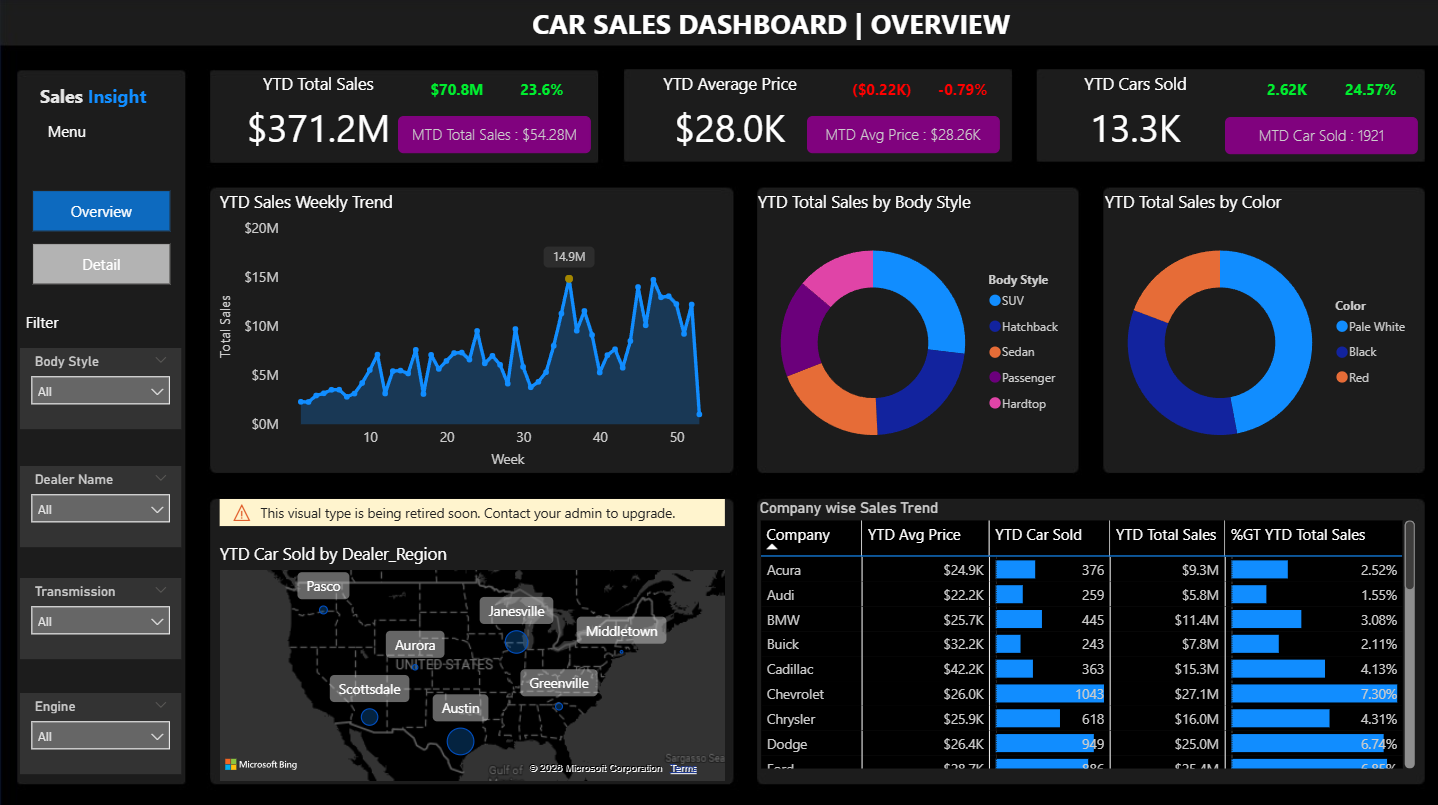

The dashboard page shown, as its layout file describes it:
{"tool":"powerbi","page":{"name":"Overview","canvas":[1280,720],"ordinal":0},"visuals":[{"type":"advanceCardE03760C5AB684758B56AA29F9E6C257B","title":"YTD Total Sales","fields":{"mainMeasure":["car_data.YTD Total Sales"]},"box":[189.7,65.2,186.7,77.8],"z":0},{"type":"advanceCardE03760C5AB684758B56AA29F9E6C257B","fields":{"mainMeasure":["car_data.Sale Diff"]},"box":[361.8,65.2,88.5,26.3],"z":1000},{"type":"advanceCardE03760C5AB684758B56AA29F9E6C257B","fields":{"mainMeasure":["car_data.YoY Sales Growth"]},"box":[436.7,65.2,88.5,26.3],"z":2000},{"type":"advanceCardE03760C5AB684758B56AA29F9E6C257B","title":"MTD Total Sales","fields":{"mainMeasure":["car_data.MTD KPI"]},"box":[354,104.1,171.2,33.1],"z":3000},{"type":"advanceCardE03760C5AB684758B56AA29F9E6C257B","title":"YTD Average Price","fields":{"mainMeasure":["car_data.YTD Avg Price"]},"box":[557.3,65.2,180.9,77.8],"z":4000},{"type":"advanceCardE03760C5AB684758B56AA29F9E6C257B","fields":{"mainMeasure":["car_data.Price Diff"]},"box":[738.2,65.2,88.5,26.3],"z":5000},{"type":"advanceCardE03760C5AB684758B56AA29F9E6C257B","fields":{"mainMeasure":["car_data.YoY Price Growth"]},"box":[810.2,65.2,88.5,26.3],"z":6000},{"type":"advanceCardE03760C5AB684758B56AA29F9E6C257B","title":"MTD Total Sales","fields":{"mainMeasure":["car_data.MTD Price"]},"box":[716.8,104.1,171.2,33.1],"z":7000},{"type":"advanceCardE03760C5AB684758B56AA29F9E6C257B","title":"YTD Cars Sold","fields":{"mainMeasure":["car_data.YTD Car Sold"]},"box":[917.9,64.9,180.1,77.7],"z":8000},{"type":"advanceCardE03760C5AB684758B56AA29F9E6C257B","title":"MTD Total Sales","fields":{"mainMeasure":["car_data.Car Sold KPI"]},"box":[1087.1,104.2,171,32.9],"z":9000},{"type":"advanceCardE03760C5AB684758B56AA29F9E6C257B","fields":{"mainMeasure":["car_data.Car Sold Diff"]},"box":[1098.1,64.9,88.7,26.5],"z":10000},{"type":"advanceCardE03760C5AB684758B56AA29F9E6C257B","fields":{"mainMeasure":["car_data.Car Sold Growth"]},"box":[1172.1,64.9,88.7,26.5],"z":11000},{"type":"areaChart","title":"YTD  Sales Weekly Trend","fields":{"Category":["Calendar Table.Week"],"Y":["Sum(car_data.Price ($))","car_data.Max point"]},"box":[191,169.3,459,250.7],"z":12000},{"type":"donutChart","fields":{"Category":["car_data.Body Style"],"Y":["car_data.YTD Total Sales"]},"box":[667.7,169.4,285.5,250.9],"z":13000},{"type":"donutChart","fields":{"Category":["car_data.Color"],"Y":["car_data.YTD Total Sales"]},"box":[975.4,169.4,285.5,250.9],"z":14000},{"type":"map","fields":{"Category":["car_data.Dealer_Region"],"Size":["car_data.YTD Car Sold"]},"box":[190.6,443.3,458.4,255.4],"z":15000},{"type":"tableEx","title":"Company wise Sales Trend","fields":{"Values":["car_data.Company","car_data.YTD Avg Price","car_data.YTD Car Sold","car_data.YTD Total Sales1","car_data.YTD Total Sales"]},"box":[669.5,443.3,591.4,243.8],"z":16000},{"type":"textbox","box":[439.9,0,489.7,42.5],"z":17000},{"type":"slicer","fields":{"Values":["car_data.Body Style"]},"box":[19,309.6,143,71.5],"z":18000},{"type":"slicer","fields":{"Values":["car_data.Dealer_Name"]},"box":[19,413.7,143,71.5],"z":18001},{"type":"slicer","fields":{"Values":["car_data.Transmission"]},"box":[19,513.3,143,71.5],"z":18002},{"type":"slicer","fields":{"Values":["car_data.Engine"]},"box":[19,615.6,143,71.5],"z":18003},{"type":"textbox","box":[19,273.4,43.5,29],"z":18004},{"type":"textbox","box":[29.9,69.7,106.8,42.5],"z":18005},{"type":"textbox","box":[38,104.1,45.3,29],"z":18006},{"type":"pageNavigator","box":[29,169.3,123.1,86],"z":18007}]}

Visuals, with their boxes in screenshot pixels (x1, y1, x2, y2), scaled from the page's 1280x720 canvas onto the 1438x805 screenshot:
"YTD Total Sales" advanceCardE03760C5AB684758B56AA29F9E6C257B: l=213, t=73, r=423, b=160
advanceCardE03760C5AB684758B56AA29F9E6C257B - car_data.Sale Diff: l=406, t=73, r=506, b=102
advanceCardE03760C5AB684758B56AA29F9E6C257B - car_data.YoY Sales Growth: l=491, t=73, r=590, b=102
"MTD Total Sales" advanceCardE03760C5AB684758B56AA29F9E6C257B: l=398, t=116, r=590, b=153
"YTD Average Price" advanceCardE03760C5AB684758B56AA29F9E6C257B: l=626, t=73, r=829, b=160
advanceCardE03760C5AB684758B56AA29F9E6C257B - car_data.Price Diff: l=829, t=73, r=929, b=102
advanceCardE03760C5AB684758B56AA29F9E6C257B - car_data.YoY Price Growth: l=910, t=73, r=1010, b=102
"MTD Total Sales" advanceCardE03760C5AB684758B56AA29F9E6C257B: l=805, t=116, r=998, b=153
"YTD Cars Sold" advanceCardE03760C5AB684758B56AA29F9E6C257B: l=1031, t=73, r=1234, b=159
"MTD Total Sales" advanceCardE03760C5AB684758B56AA29F9E6C257B: l=1221, t=117, r=1413, b=153
advanceCardE03760C5AB684758B56AA29F9E6C257B - car_data.Car Sold Diff: l=1234, t=73, r=1333, b=102
advanceCardE03760C5AB684758B56AA29F9E6C257B - car_data.Car Sold Growth: l=1317, t=73, r=1416, b=102
"YTD  Sales Weekly Trend" areaChart: l=215, t=189, r=730, b=470
donutChart - car_data.Body Style x car_data.YTD Total Sales: l=750, t=189, r=1071, b=470
donutChart - car_data.Color x car_data.YTD Total Sales: l=1096, t=189, r=1417, b=470
map - car_data.Dealer_Region x car_data.YTD Car Sold: l=214, t=496, r=729, b=781
"Company wise Sales Trend" tableEx: l=752, t=496, r=1417, b=768
textbox: l=494, t=0, r=1044, b=48
slicer - car_data.Body Style: l=21, t=346, r=182, b=426
slicer - car_data.Dealer_Name: l=21, t=463, r=182, b=542
slicer - car_data.Transmission: l=21, t=574, r=182, b=654
slicer - car_data.Engine: l=21, t=688, r=182, b=768
textbox: l=21, t=306, r=70, b=338
textbox: l=34, t=78, r=154, b=125
textbox: l=43, t=116, r=94, b=149
pageNavigator: l=33, t=189, r=171, b=285
